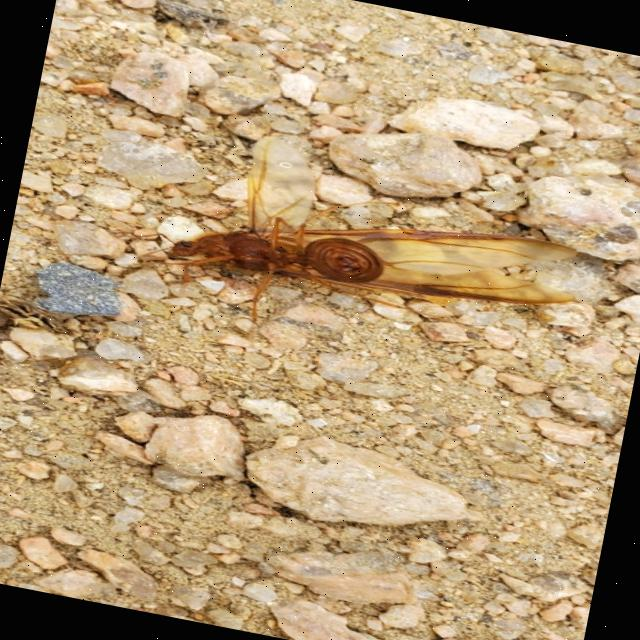Dead-Male-Alate: (115, 114, 595, 408)
